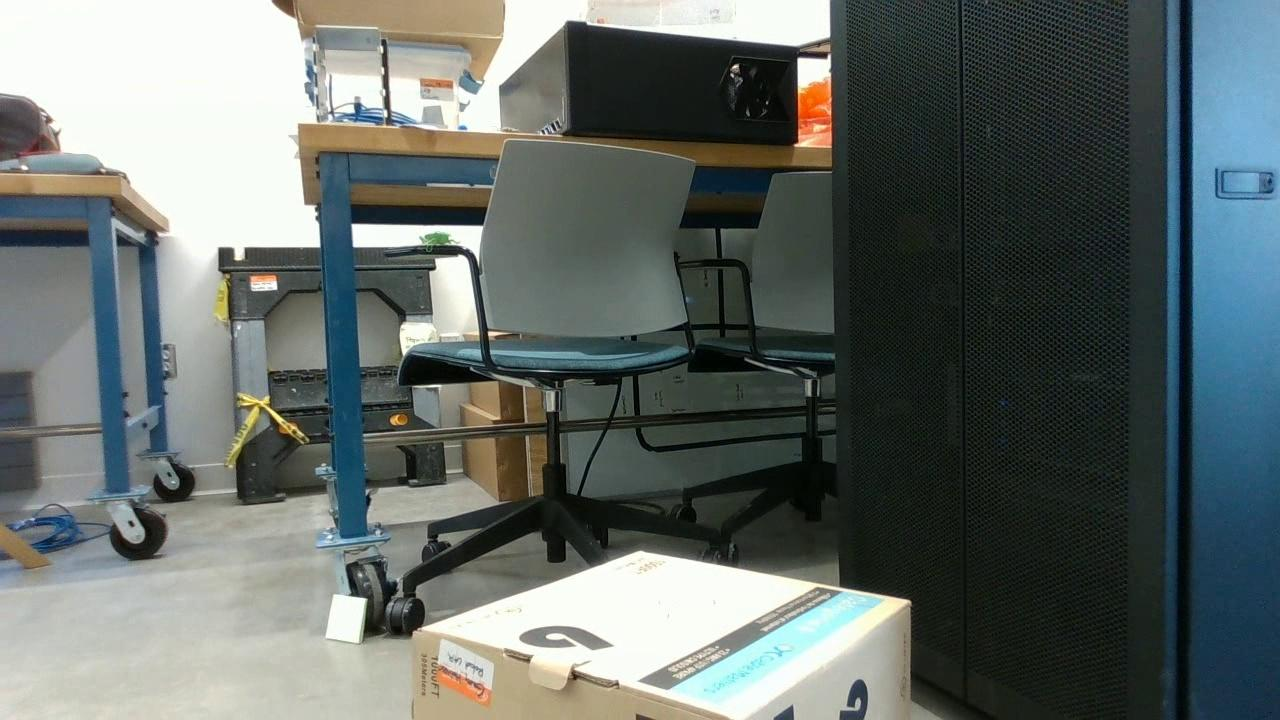grasshopper: (415, 233, 461, 244)
